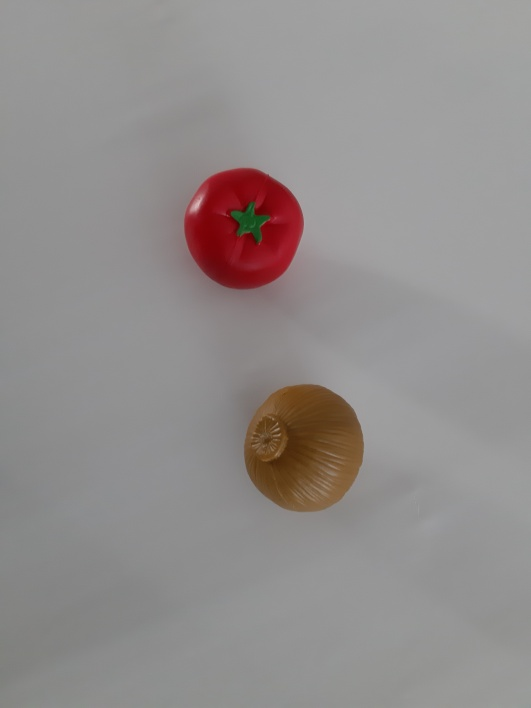onion: (232, 374, 380, 523)
tomato: (171, 156, 323, 303)
